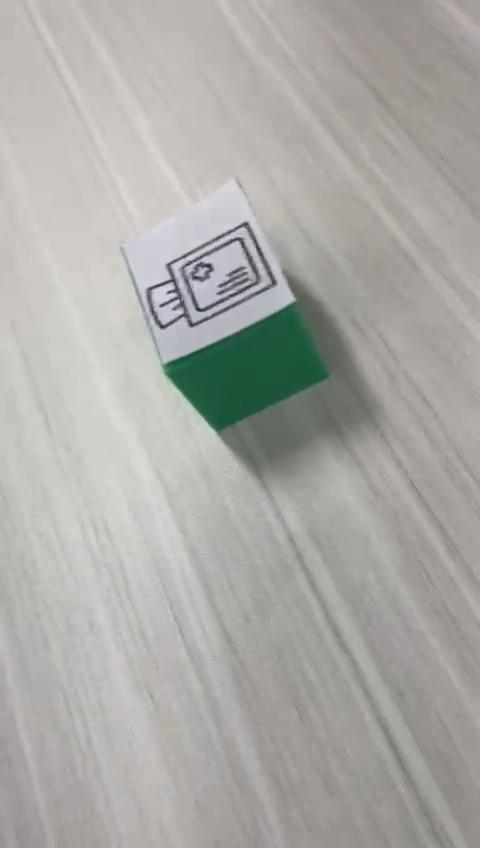Gauze: (119, 175, 330, 434)
